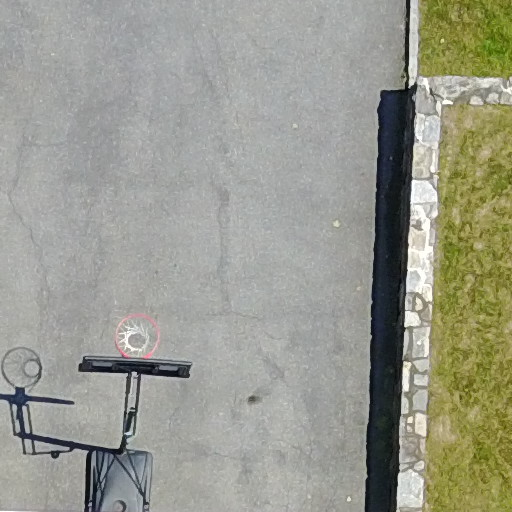basketball: (50, 290, 210, 512)
